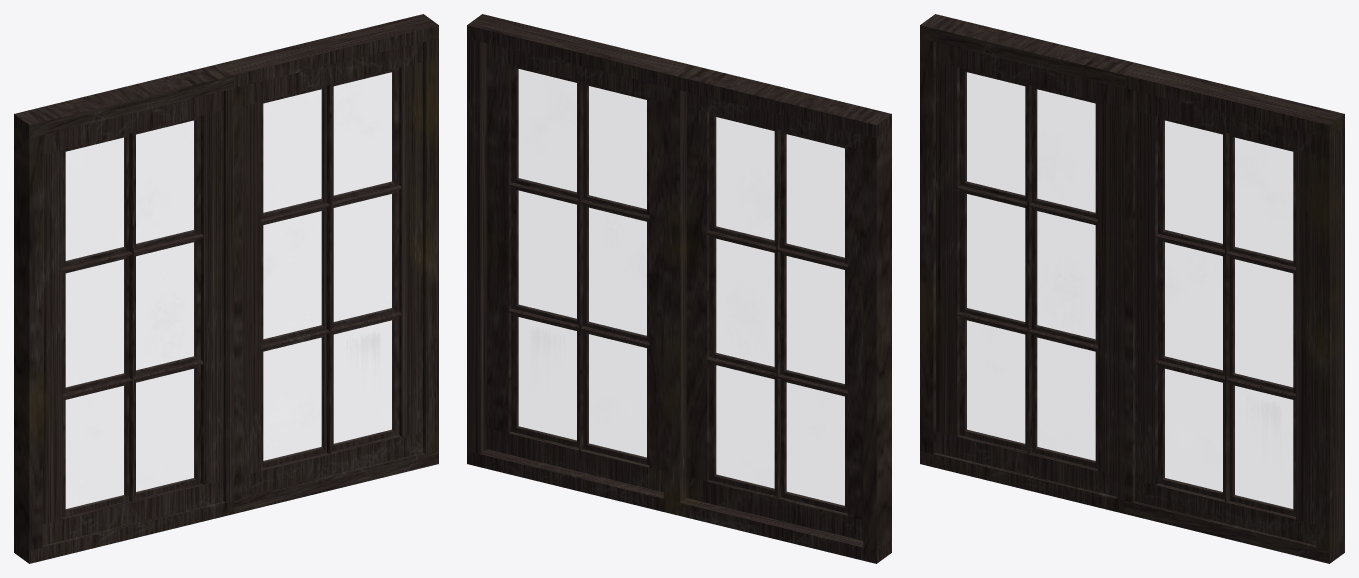
The model's file is window_1.gltf.
3 views of the same model, side by side, from view 1: azimuth 30°, elevation 25°; view 2: azimuth 150°, elevation 25°; view 3: azimuth 330°, elevation 25° (orthographic).
Parts seen in each view (by area): view 1: Object_3, Object_2; view 2: Object_3, Object_2; view 3: Object_3, Object_2.
Part boxes in pixels (<box>): Object_3: <box>14,14,438,563</box>; Object_2: <box>66,73,391,508</box>; Object_3: <box>467,14,891,563</box>; Object_2: <box>518,69,844,505</box>; Object_3: <box>920,14,1344,563</box>; Object_2: <box>967,73,1292,508</box>.
Size of the model in its own units: 121 by 124 by 7.82.
Materials: 2 (2 with a texture image).
